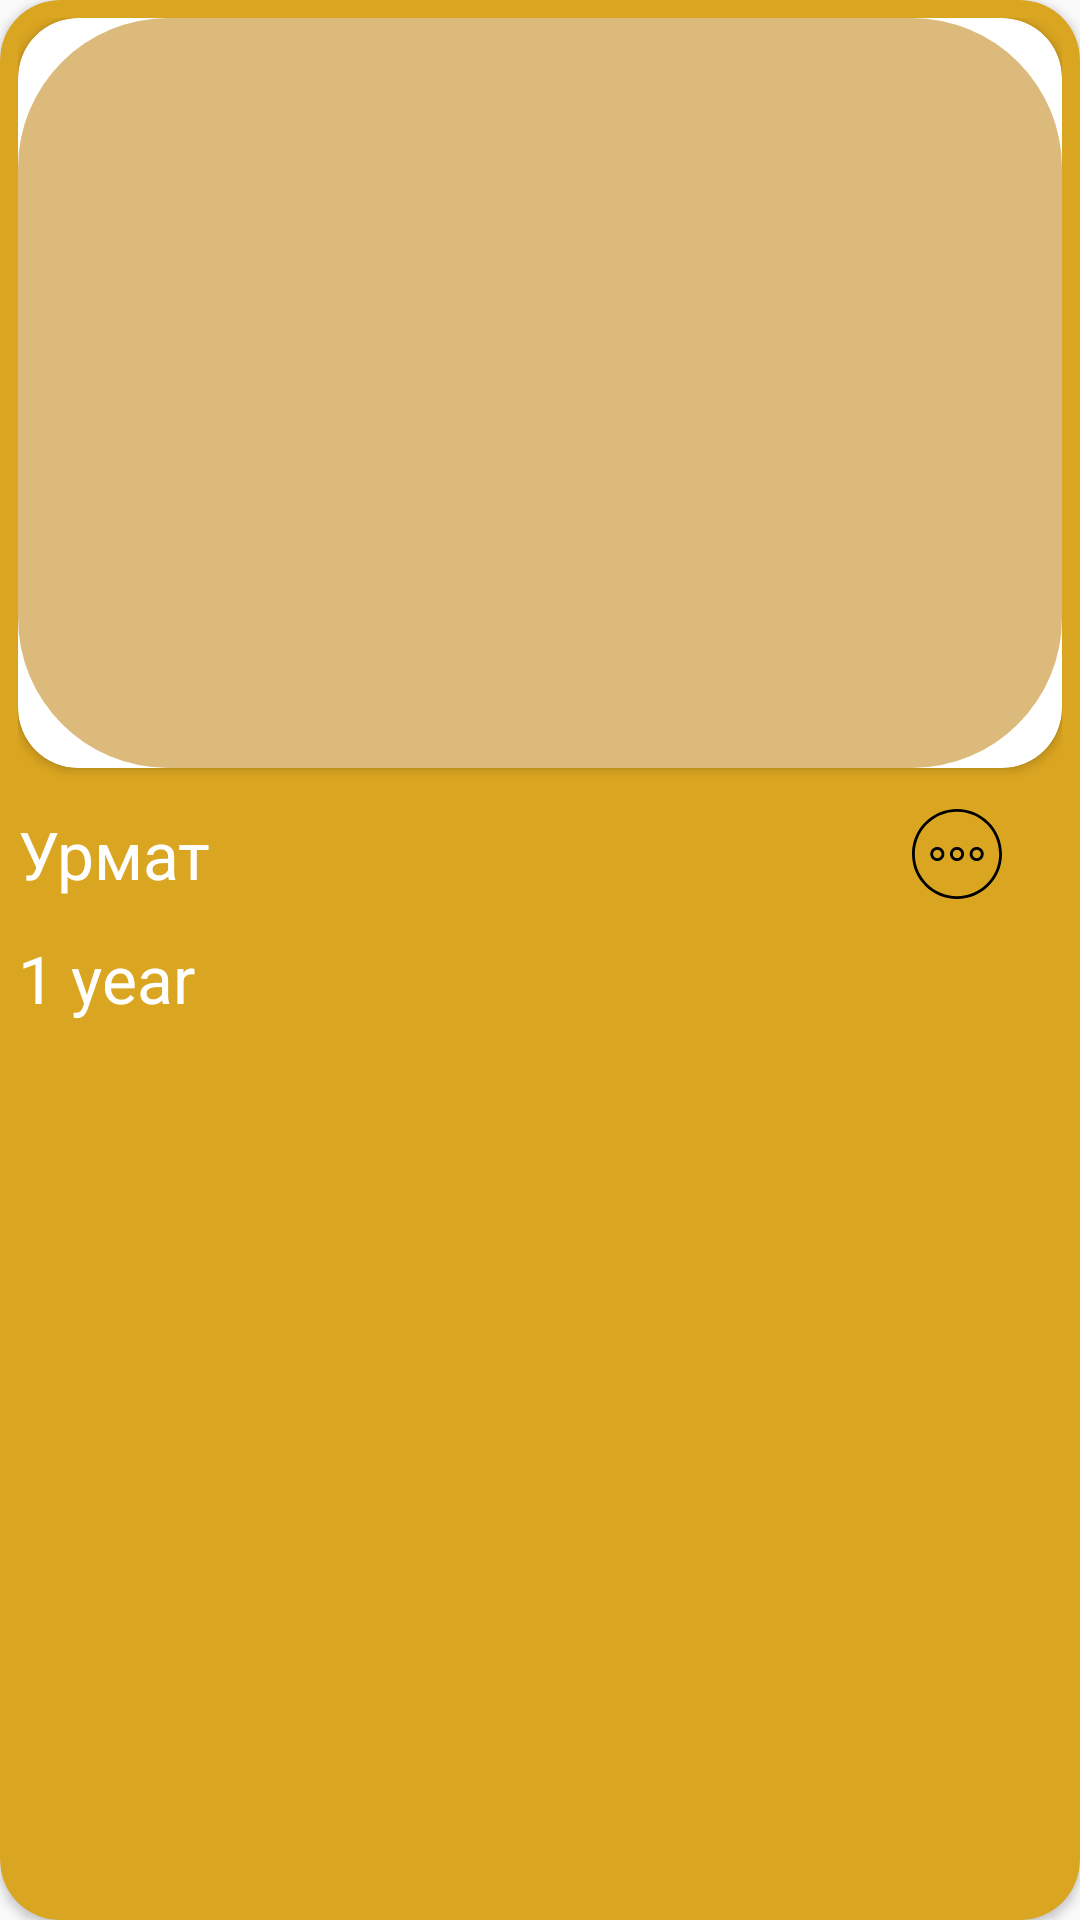

Named icons in this screenshot (1080×1920) and their bounding boxes, (x1, y1, x2, y2):
more: (912, 809, 1002, 899)
